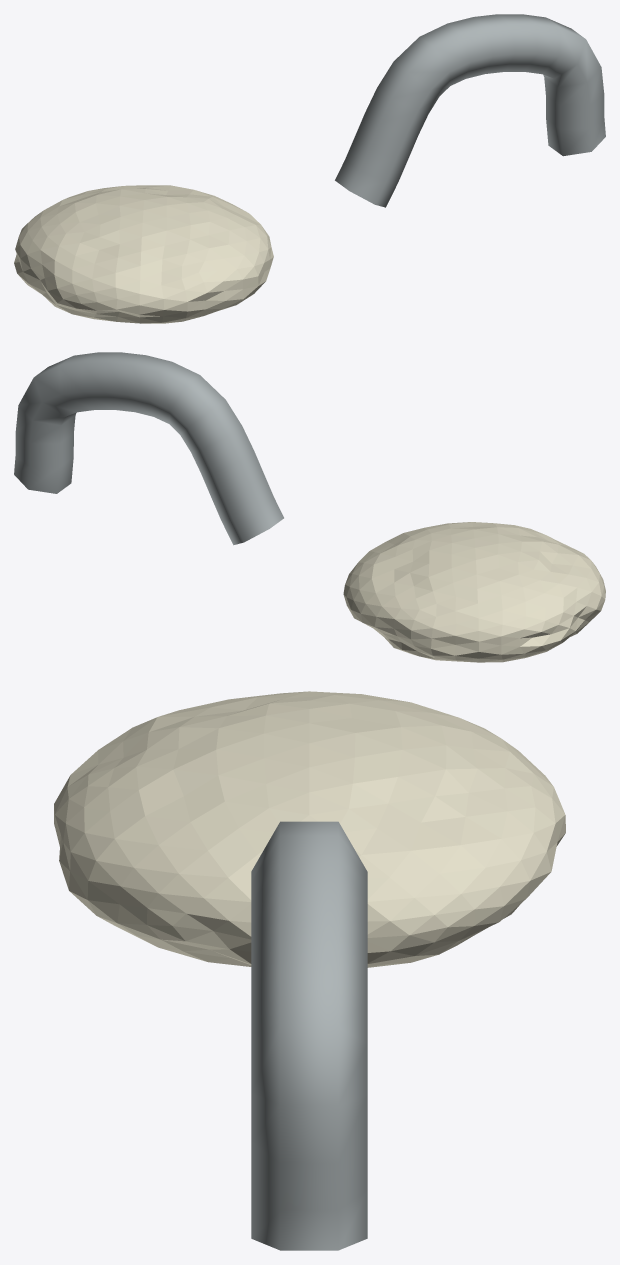
The model's file is wilderness-survival-camp-flint-strike-kit-ab200098__21960.glb.
The picture shows the model from 3 angles, top to bottom: view 1: azimuth 30°, elevation 25°; view 2: azimuth 150°, elevation 25°; view 3: azimuth 270°, elevation 25°; orthographic projection. The views are drawn at different scales.
Visible parts, largest first — view 1: flint-strike-kit; view 2: flint-strike-kit; view 3: flint-strike-kit.
Part boxes in pixels (bbox=[...]): flint-strike-kit: bbox=[14, 14, 605, 323]; flint-strike-kit: bbox=[14, 352, 605, 662]; flint-strike-kit: bbox=[54, 691, 565, 1250].
Size of the model in its own units: 0.3121 by 0.0953 by 0.1231.
